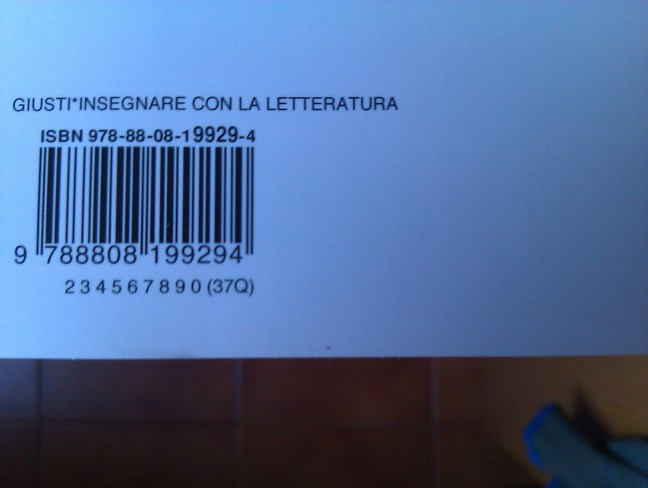detection: (6, 144, 263, 272)
